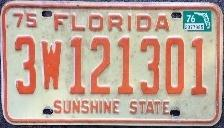0: (162, 35, 188, 97)
1: (115, 35, 140, 95), (64, 36, 88, 96), (189, 36, 212, 96)
2: (88, 36, 113, 96)
3: (13, 34, 38, 96), (137, 36, 161, 95)
W: (40, 38, 63, 94)
